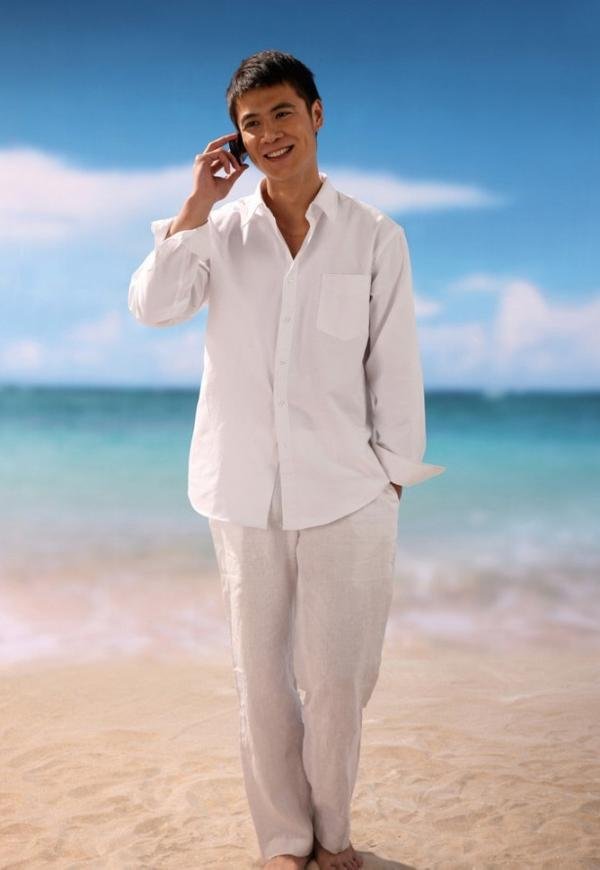person: (126, 50, 445, 870)
